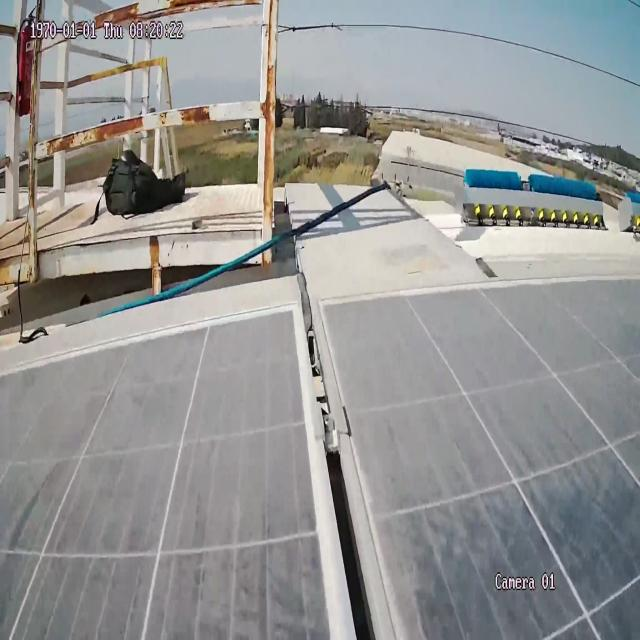interior panel: (262, 304, 427, 640)
